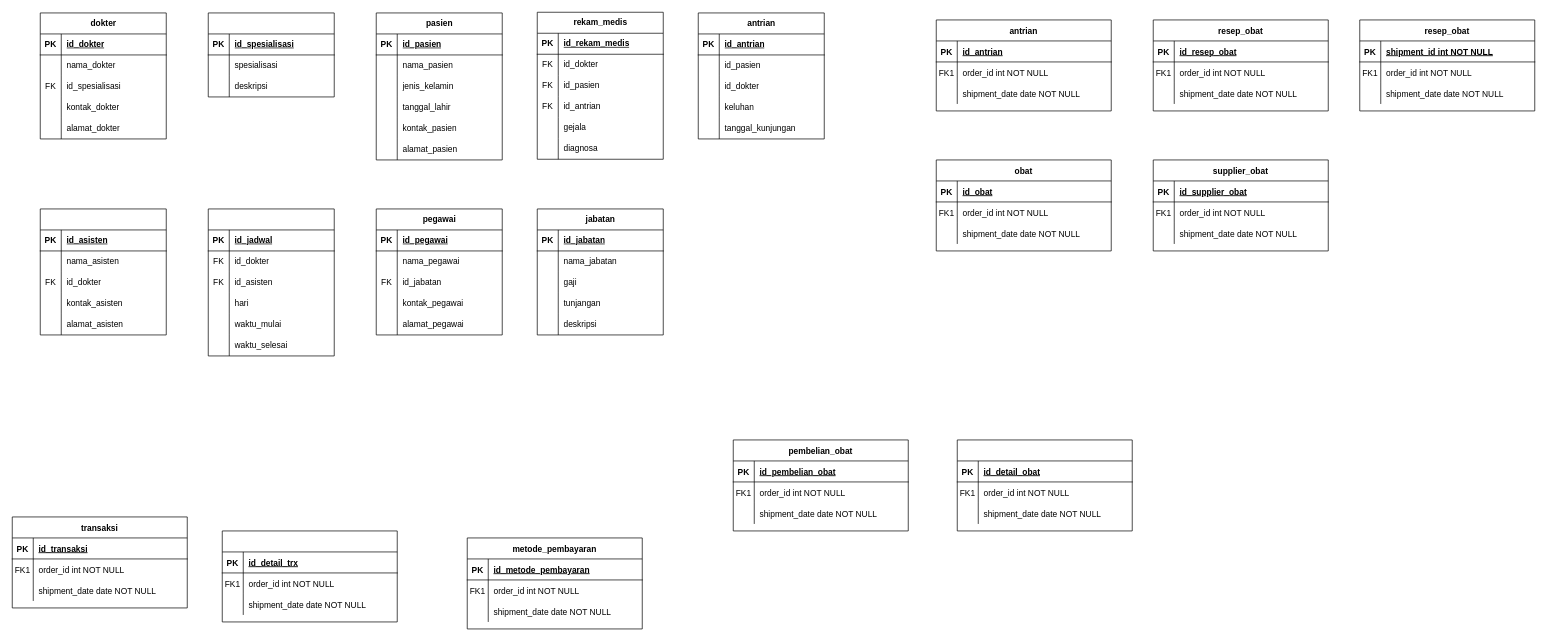
The diagram is 1547 pixels wide and 641 high, and some of its shapes have lost their labels. Each missing label, with the box of its shape:
asisten_dokter: (40, 208, 166, 335)
detail_beli_obat: (957, 439, 1132, 531)
detail_transaksi: (222, 530, 397, 622)
jadwal_praktek: (208, 208, 334, 356)
spesialisasi_dokter: (208, 12, 334, 97)
